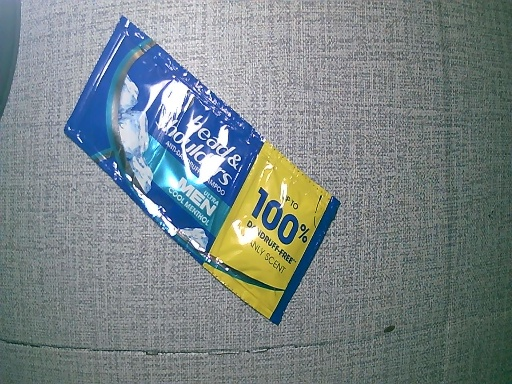plastic: (61, 18, 339, 323)
